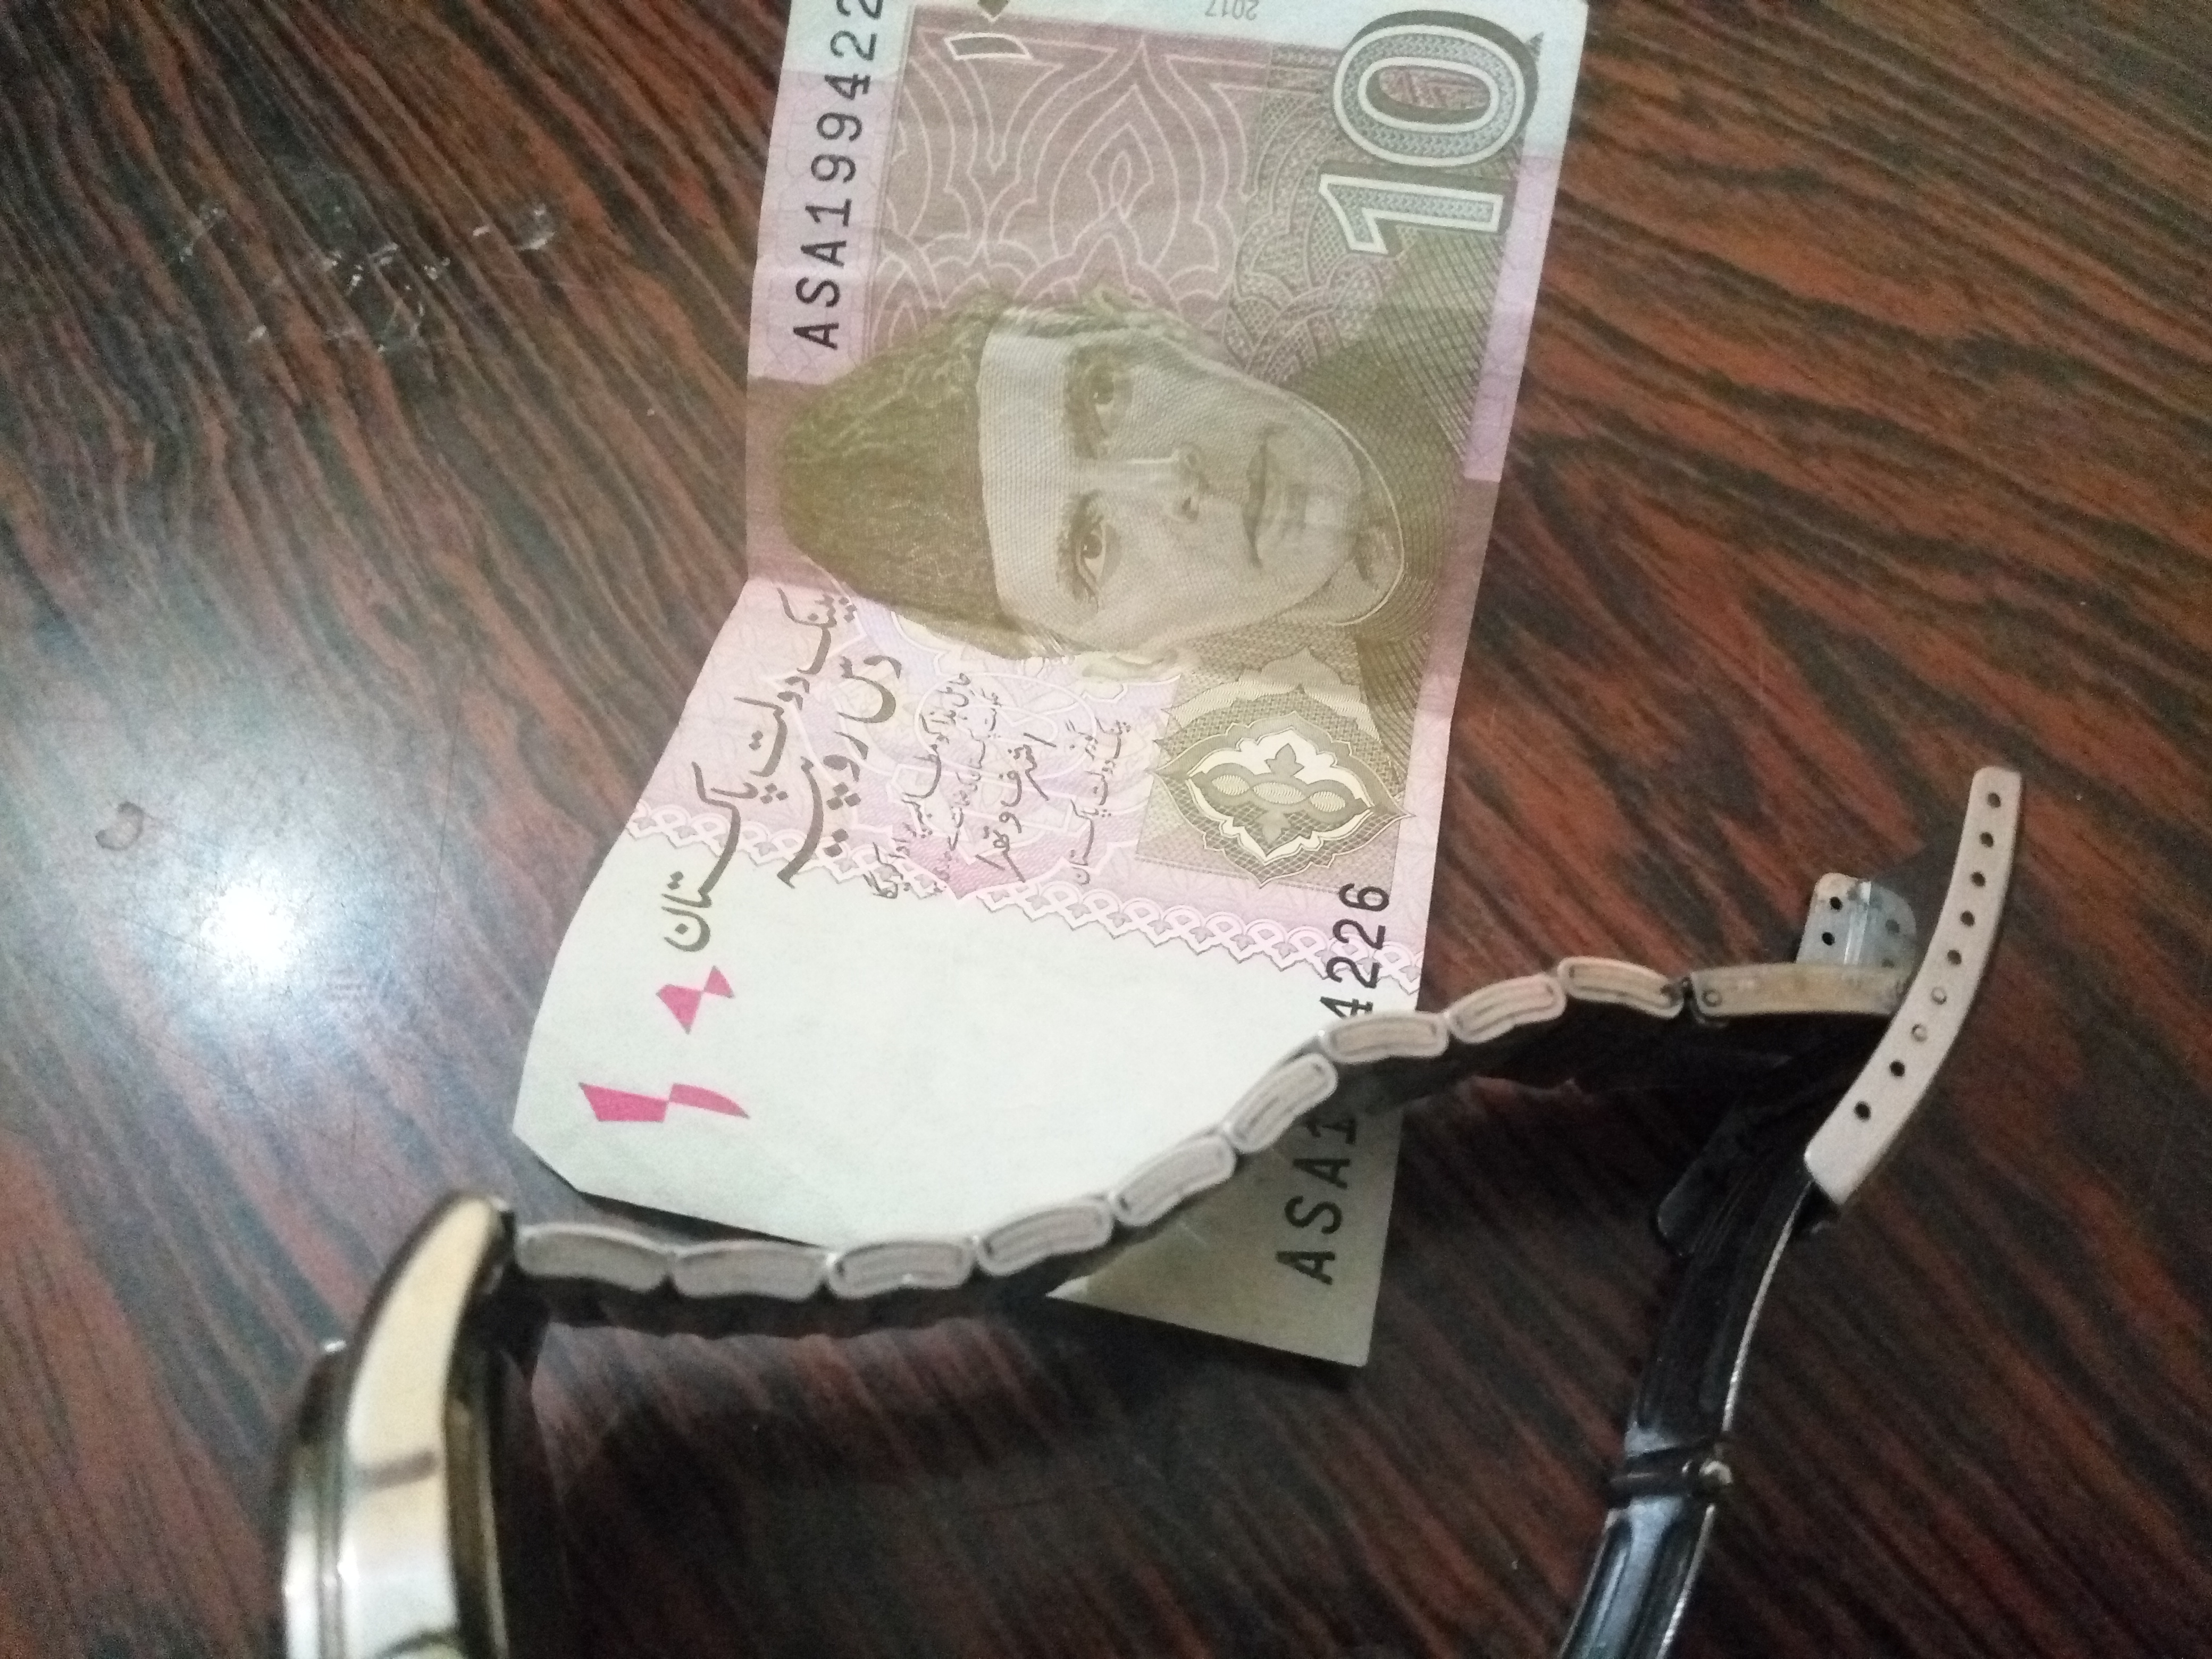10 rupee: (498, 0, 1677, 1331)
